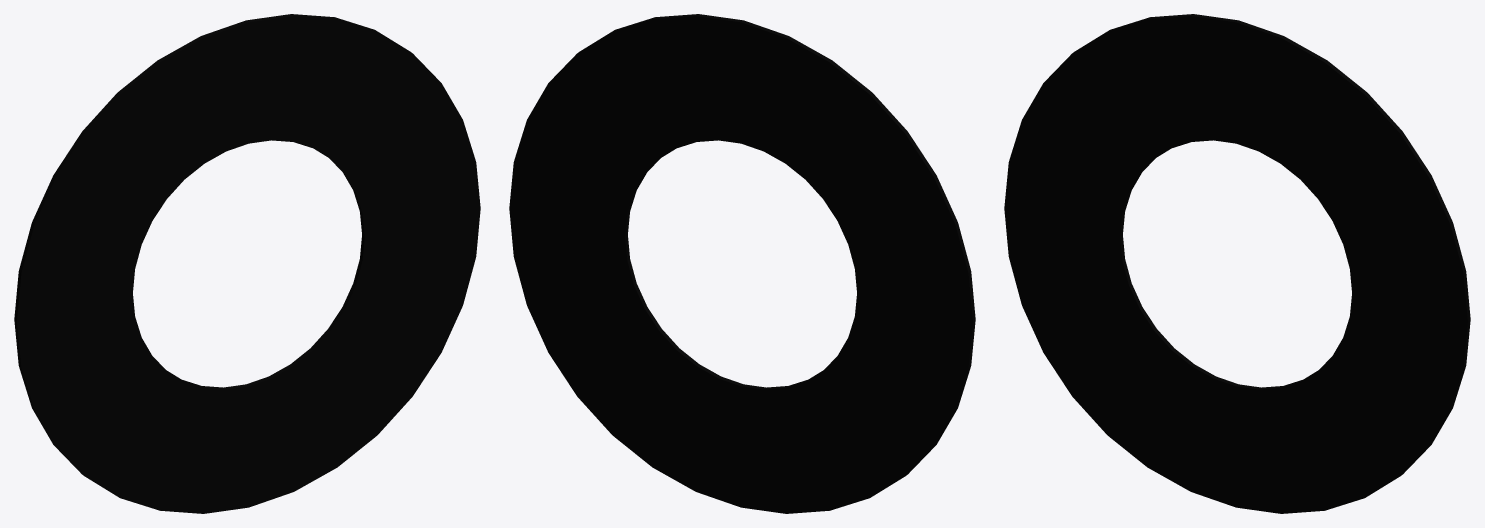
The model's file is SceneChange.obj.
3 views of the same model, side by side, from view 1: azimuth 30°, elevation 25°; view 2: azimuth 150°, elevation 25°; view 3: azimuth 330°, elevation 25° (orthographic).
Parts seen in each view (by area): view 1: 円柱; view 2: 円柱; view 3: 円柱.
Part boxes in pixels (x1,y1,x2,y2): 円柱: (14, 14, 480, 513); 円柱: (509, 14, 975, 513); 円柱: (1004, 14, 1470, 513).
Size of the model in its own units: 2 by 2 by 0.02.
1 material, 1 textured.
